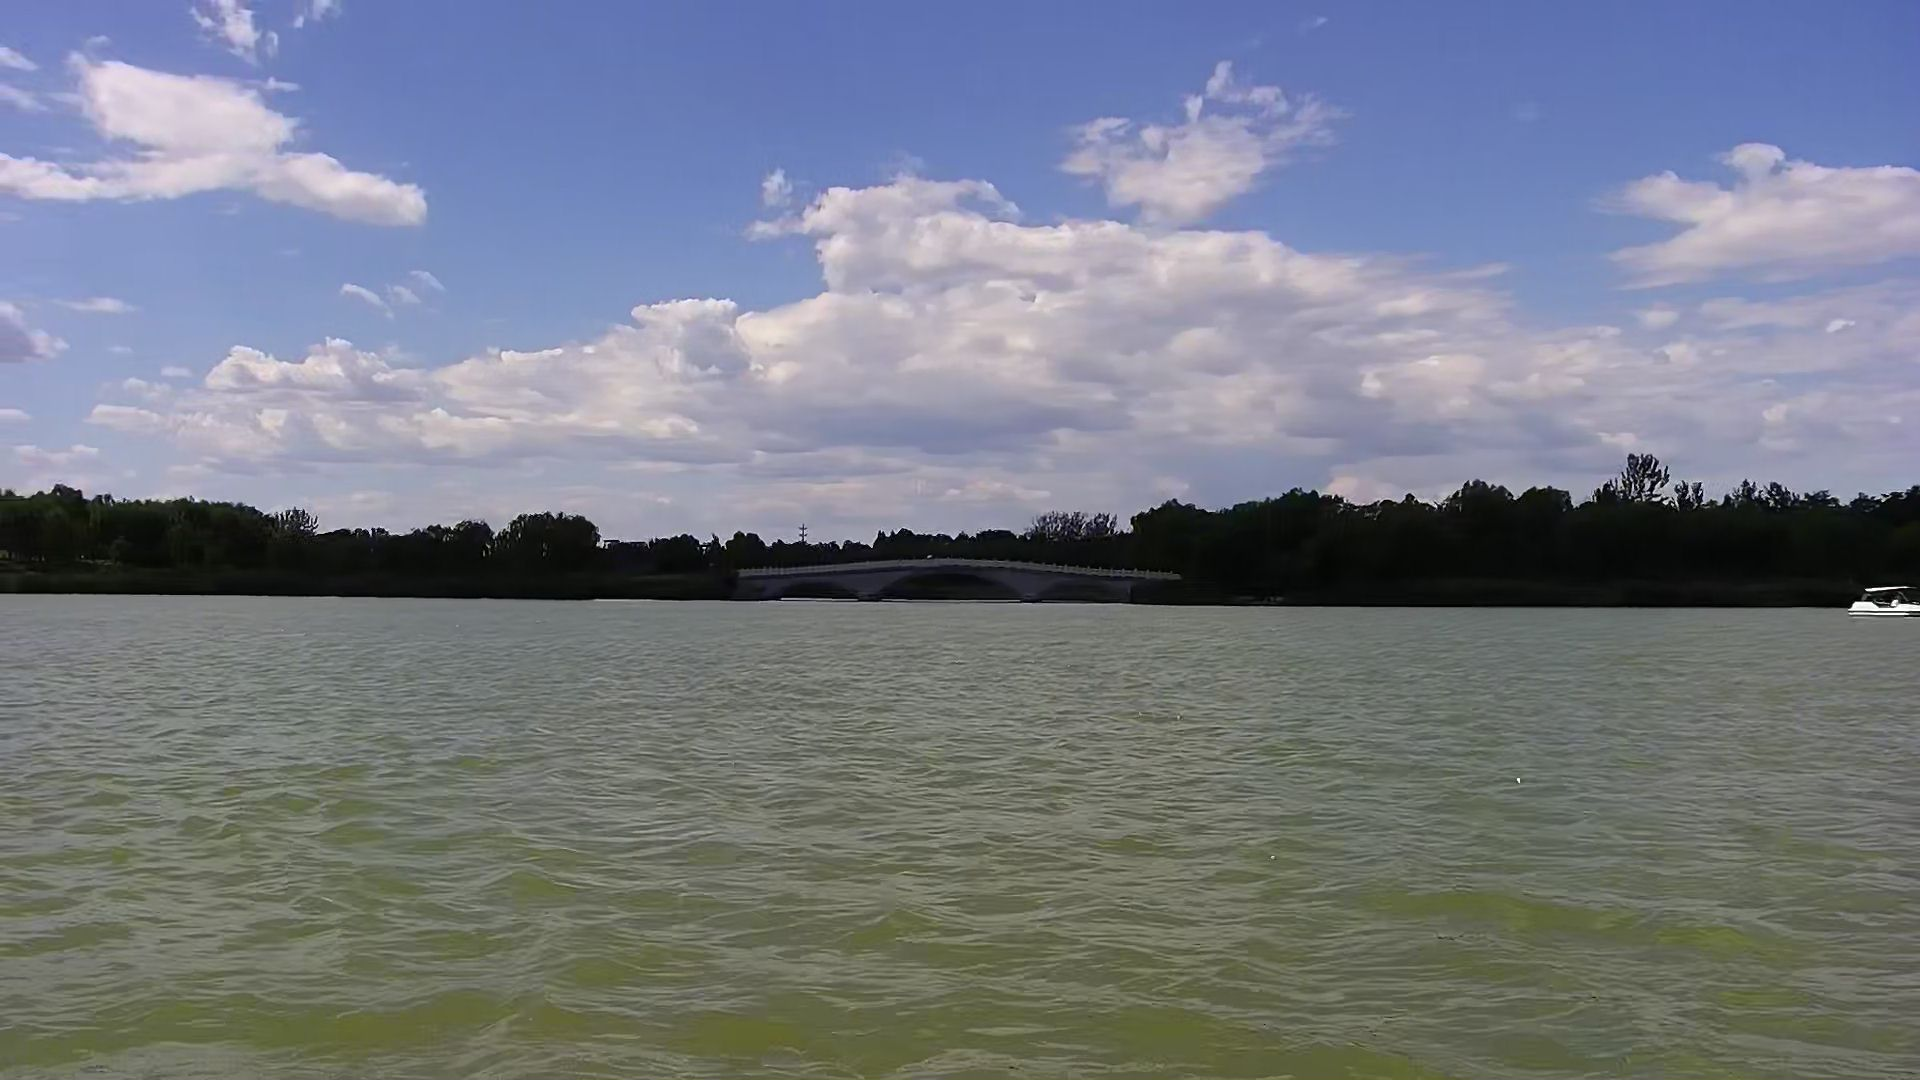boat: (1844, 578, 1920, 625)
bridge: (733, 553, 1171, 607)
